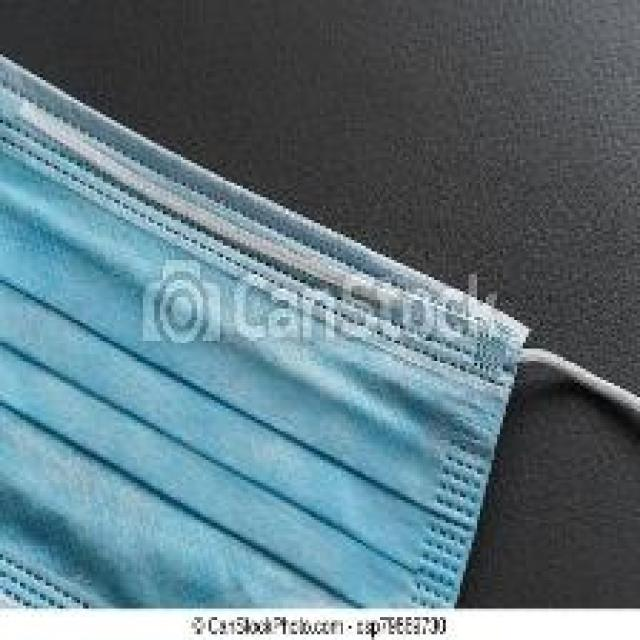Mask: (0, 45, 640, 640)
